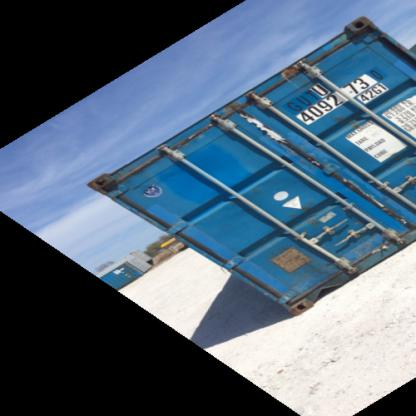Damage: (233, 95, 291, 149), (325, 231, 406, 257), (333, 174, 386, 204), (176, 123, 218, 143), (306, 149, 324, 172)
